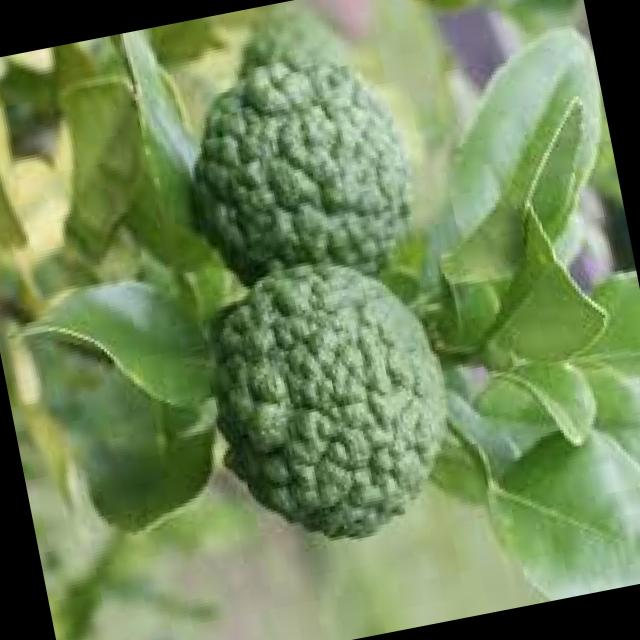Chuc: (190, 236, 476, 560), (171, 31, 431, 302)
